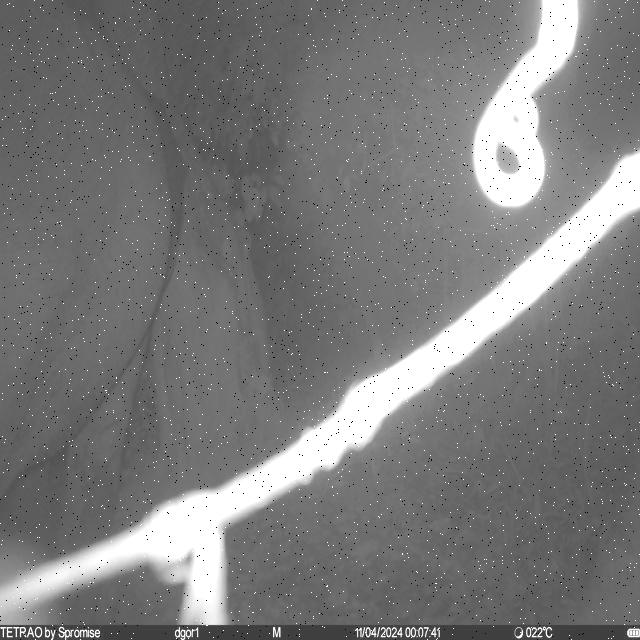elephant: (1, 50, 190, 622)
